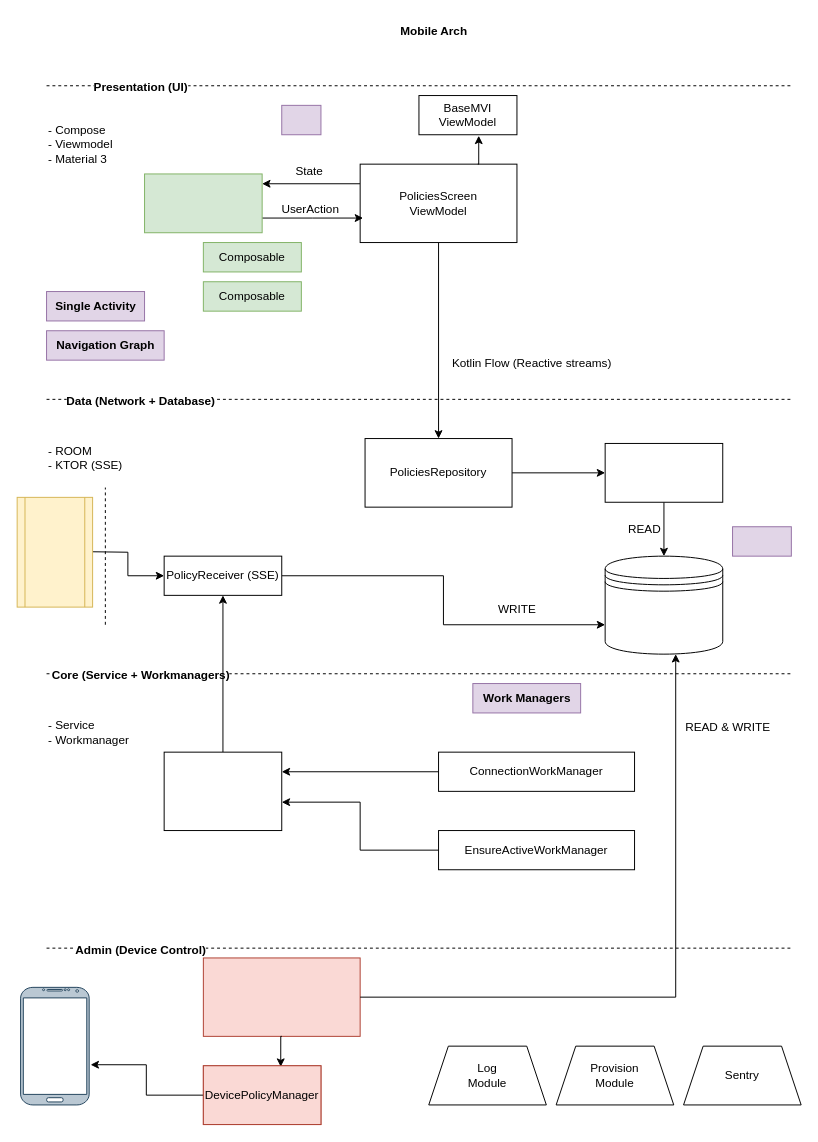
This 818x1142 diagram has some shape labels left out. Each missing label, with the centre of its shape:
AdminControl: (281,996)
Backend: (54,551)
Compose: (203,203)
Core Service: (222,791)
Database: (663,604)
MVI: (301,119)
PoliciesDAO: (663,472)
SSOT: (761,541)
